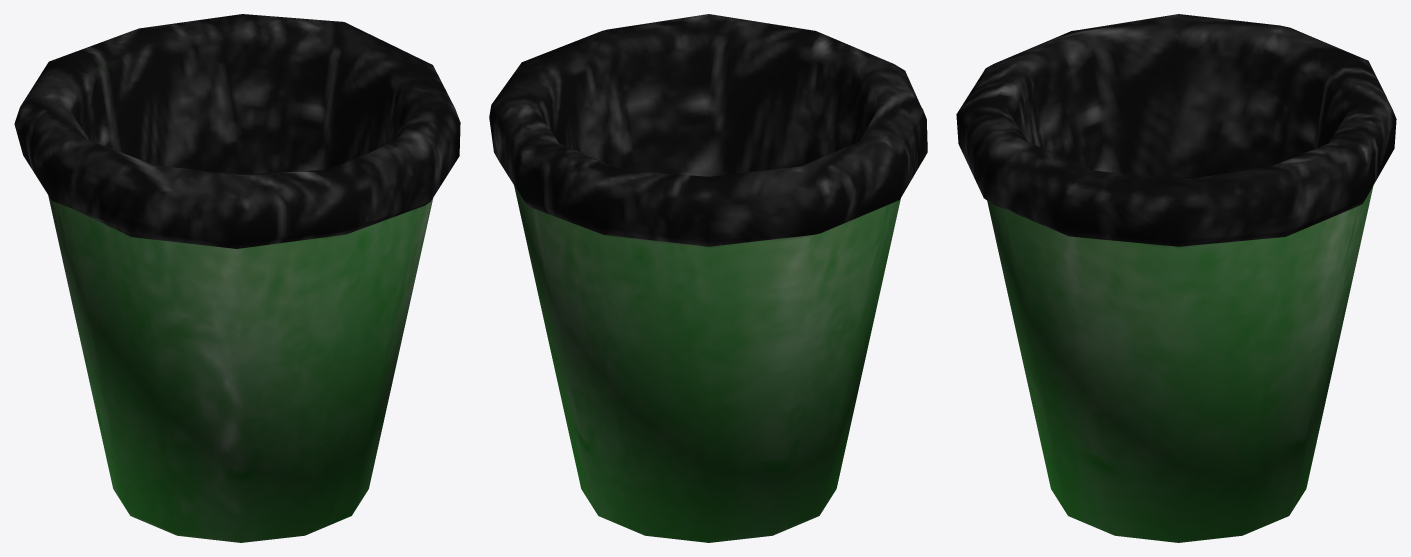
Rendered from dustbin(kitchen).fbx.
The picture shows the model from 3 angles, left to right: view 1: azimuth 30°, elevation 25°; view 2: azimuth 150°, elevation 25°; view 3: azimuth 270°, elevation 25°; orthographic projection.
Visible parts, largest first — view 1: SM_KitchenBin; view 2: SM_KitchenBin; view 3: SM_KitchenBin.
Boxes of the visible parts, x1,y1,x2,y2 form: SM_KitchenBin: (14, 14, 460, 542); SM_KitchenBin: (489, 14, 927, 542); SM_KitchenBin: (956, 14, 1396, 542).
Size of the model in its own units: 40 by 38.94 by 39.67.
1 material, 1 textured.
